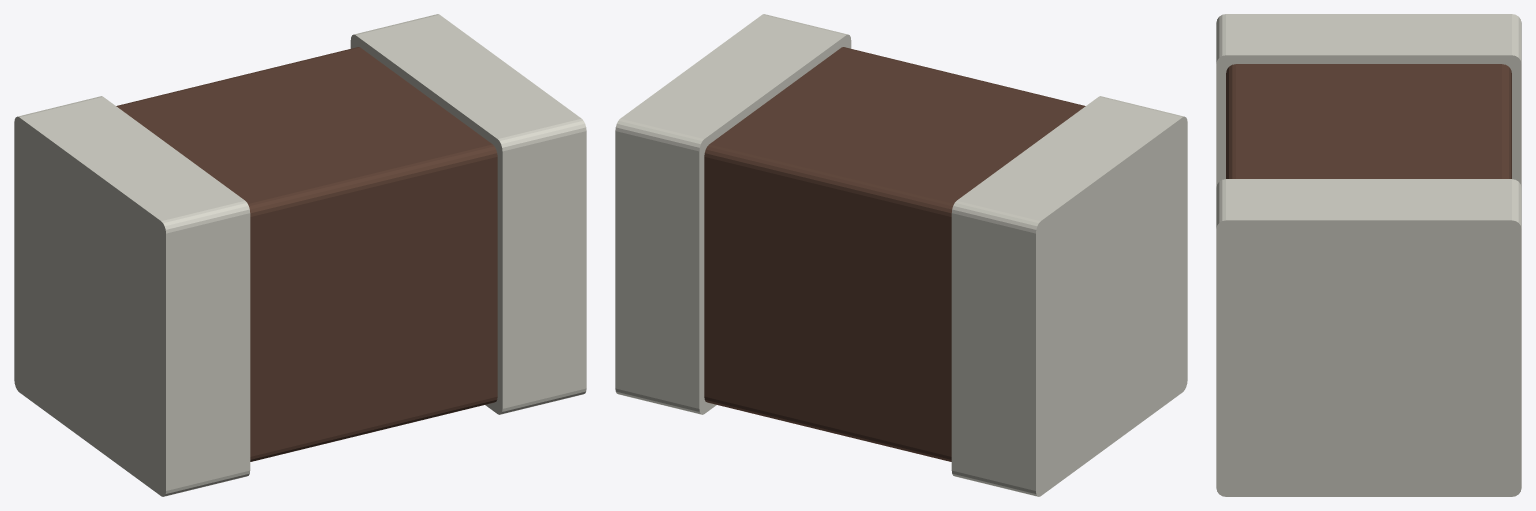
The model's file is C_0805_2012Metric.glb.
The picture shows the model from 3 angles, left to right: view 1: azimuth 30°, elevation 25°; view 2: azimuth 150°, elevation 25°; view 3: azimuth 270°, elevation 25°; orthographic projection.
Visible parts, largest first — view 1: C_0805_2012Metric_5375a7, C_0805_2012Metric_88854f; view 2: C_0805_2012Metric_5375a7, C_0805_2012Metric_88854f; view 3: C_0805_2012Metric_5375a7, C_0805_2012Metric_88854f.
Part boxes in pixels (box(x1,y1,x2,y2)): C_0805_2012Metric_5375a7: box(14, 14, 586, 496); C_0805_2012Metric_88854f: box(116, 47, 497, 461); C_0805_2012Metric_5375a7: box(615, 14, 1187, 496); C_0805_2012Metric_88854f: box(704, 47, 1085, 461); C_0805_2012Metric_5375a7: box(1216, 14, 1521, 496); C_0805_2012Metric_88854f: box(1226, 64, 1511, 178).
Bounding box in the file's own units: 0.002 × 0.00125 × 0.00125.
